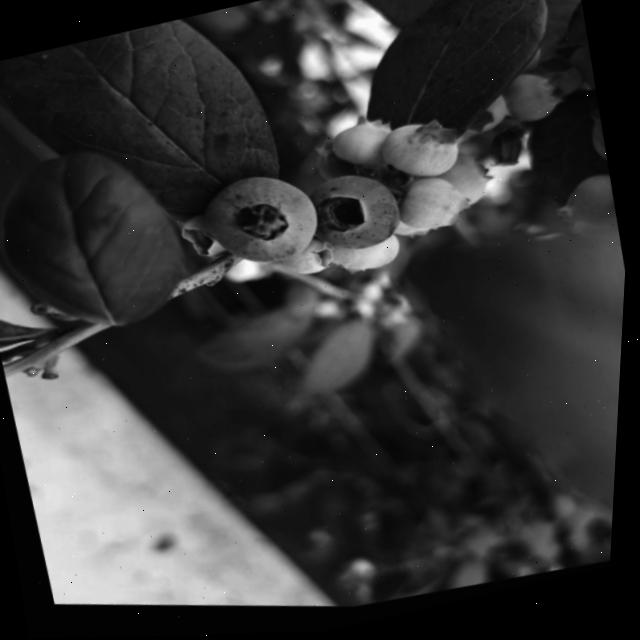RipeBlueBerry: (177, 152, 342, 295), (288, 156, 421, 279)
UnripeBlueBerry: (366, 105, 475, 200)
